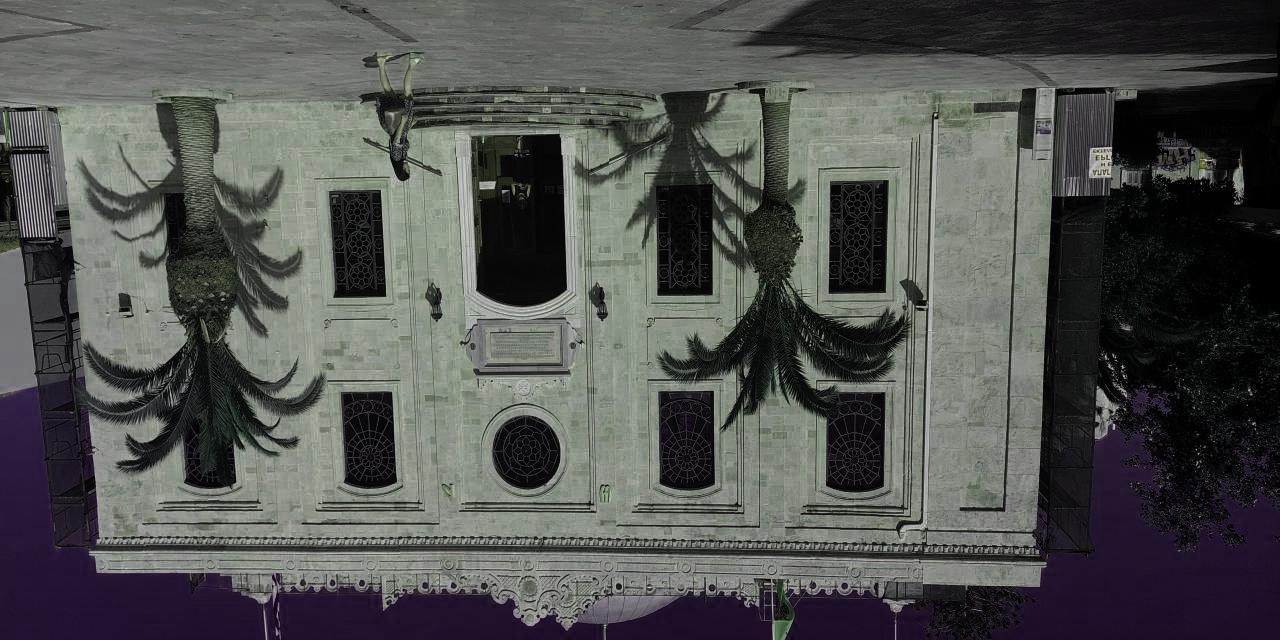Agios Titos: (82, 88, 1053, 620)
